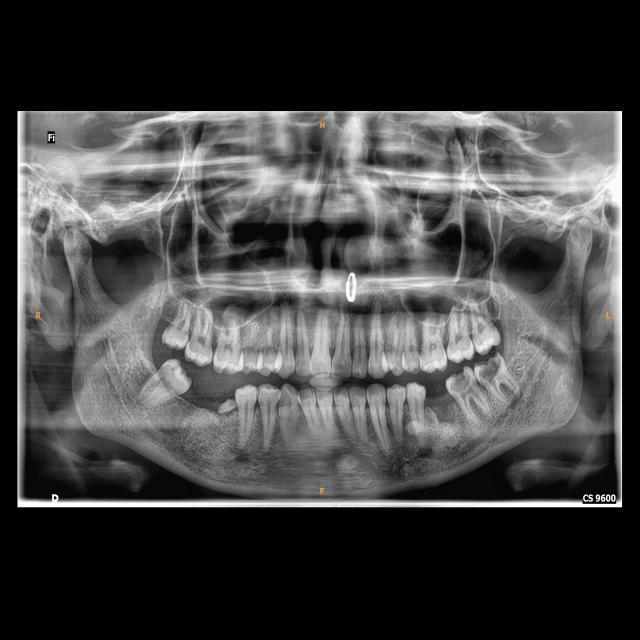dentin-curugu: (442, 370, 479, 401), (472, 350, 504, 381)
